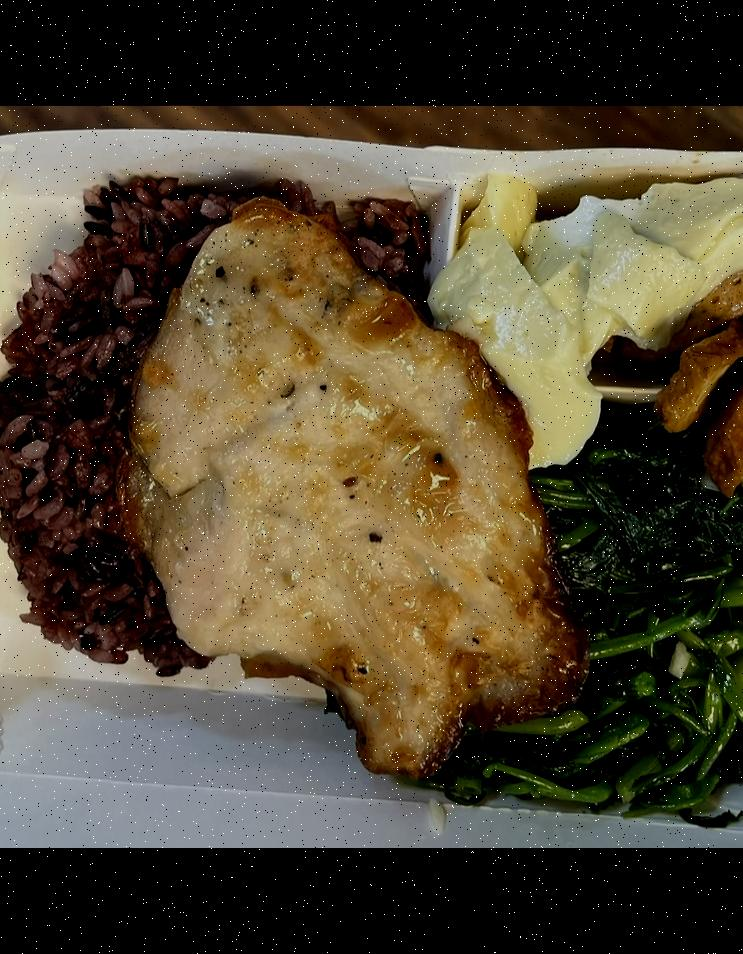box: (0, 113, 743, 848)
grilled chicken steak: (95, 218, 582, 776)
purple rice: (0, 178, 414, 675)
side dish: (418, 174, 743, 457), (431, 606, 743, 821), (535, 459, 743, 600), (656, 254, 743, 483)
